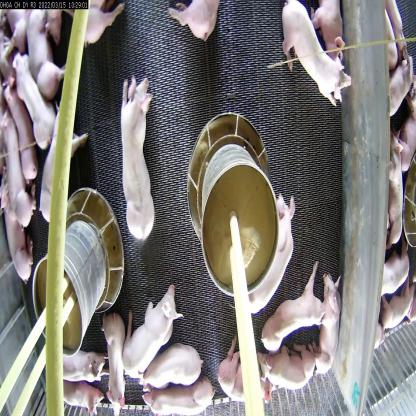Pig: (230, 181, 301, 321), (276, 0, 360, 101), (119, 66, 164, 246), (120, 280, 185, 380), (257, 258, 327, 350), (14, 44, 62, 146), (1, 107, 40, 228), (219, 338, 279, 410), (306, 261, 343, 375), (137, 334, 204, 394), (25, 12, 66, 110), (3, 181, 40, 289), (133, 369, 217, 415), (256, 334, 321, 391), (102, 308, 132, 410), (56, 337, 108, 388), (164, 0, 220, 46), (59, 369, 108, 415), (391, 126, 406, 248)
